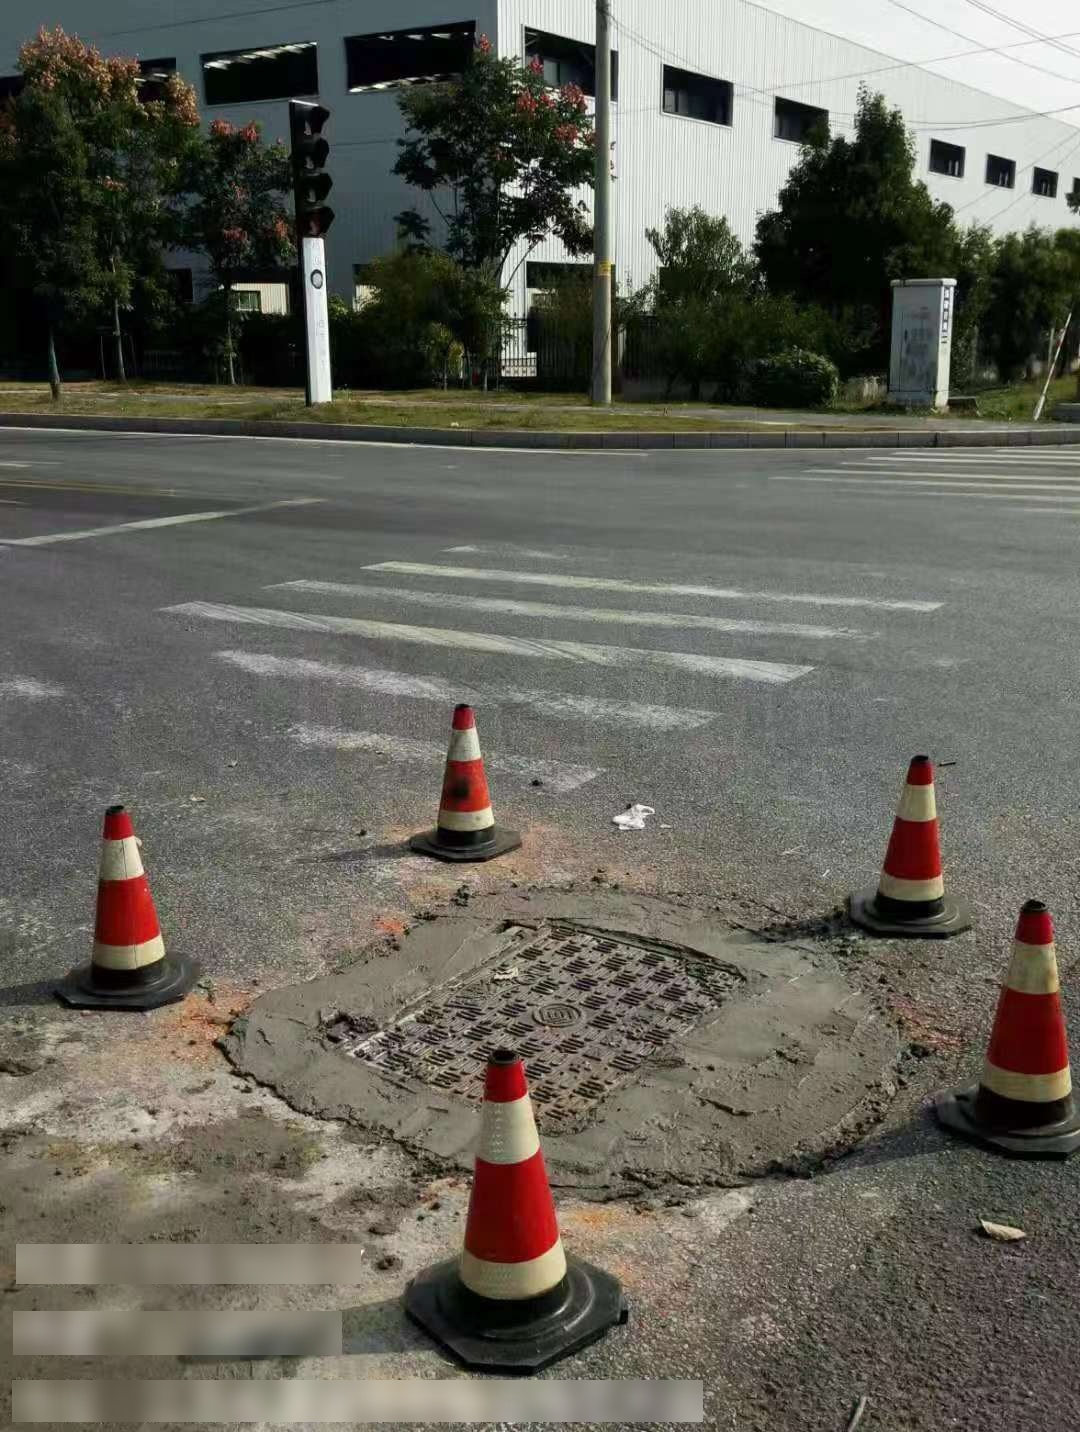good: (306, 910, 771, 1131)
